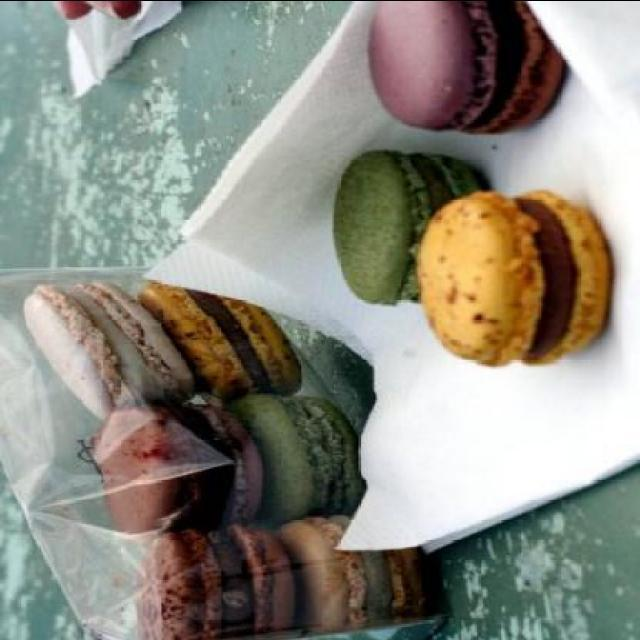Macaron: (19, 290, 406, 634), (320, 1, 612, 372)
